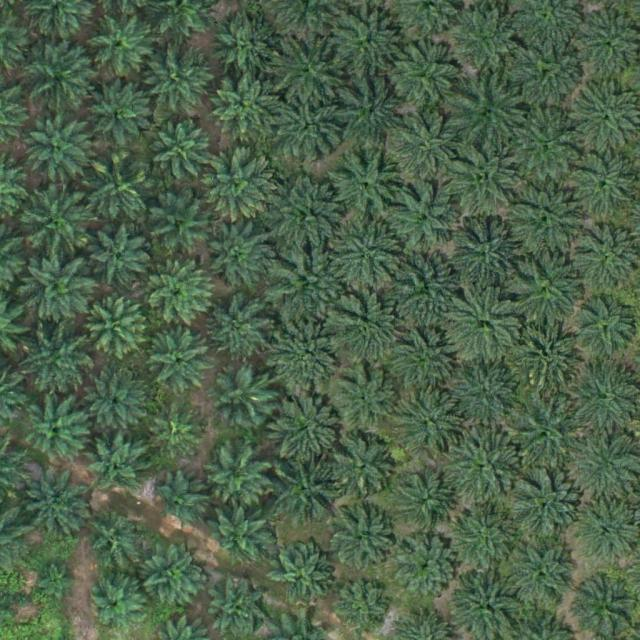Grass: (39, 559, 78, 599)
Healthy: (20, 252, 98, 331), (201, 142, 279, 221), (198, 215, 276, 294), (271, 178, 349, 257), (271, 247, 349, 326), (334, 72, 412, 151), (451, 76, 529, 155), (444, 142, 522, 221), (449, 222, 527, 301), (507, 182, 585, 261), (507, 109, 585, 188), (511, 36, 589, 115), (269, 316, 347, 395), (326, 294, 404, 373), (445, 501, 523, 580), (445, 425, 523, 504), (446, 287, 524, 366), (514, 313, 592, 392), (508, 390, 586, 469), (508, 471, 586, 550), (276, 29, 354, 107), (331, 218, 409, 296), (266, 389, 344, 467), (20, 327, 91, 398), (334, 4, 405, 75), (446, 8, 517, 79), (26, 46, 96, 117), (23, 111, 93, 182), (22, 188, 92, 259), (144, 46, 214, 117), (145, 261, 215, 332), (276, 95, 346, 166), (22, 471, 92, 542), (391, 182, 462, 252), (392, 43, 462, 114), (570, 150, 640, 221), (447, 365, 517, 436), (507, 541, 577, 612), (208, 73, 278, 143), (329, 153, 399, 223), (392, 112, 462, 182), (272, 458, 342, 528), (512, 257, 582, 327), (87, 79, 150, 142), (205, 447, 268, 510), (142, 547, 205, 610), (82, 508, 145, 571), (330, 438, 393, 501), (89, 13, 151, 76), (91, 222, 153, 285), (151, 122, 213, 185), (147, 194, 210, 256), (214, 17, 276, 80), (208, 504, 270, 567), (150, 332, 212, 395), (85, 298, 148, 360), (87, 374, 149, 437), (87, 433, 149, 496), (25, 399, 87, 462), (271, 546, 333, 609), (332, 513, 394, 576), (334, 368, 396, 431), (389, 327, 452, 389), (401, 394, 463, 457), (397, 537, 459, 600), (575, 299, 637, 362), (208, 301, 270, 363), (213, 369, 275, 431), (396, 256, 458, 318), (155, 475, 210, 530), (151, 408, 206, 463), (209, 581, 264, 636), (333, 582, 388, 637), (399, 478, 454, 533), (91, 579, 145, 635)
Yellow: (82, 157, 152, 228)
